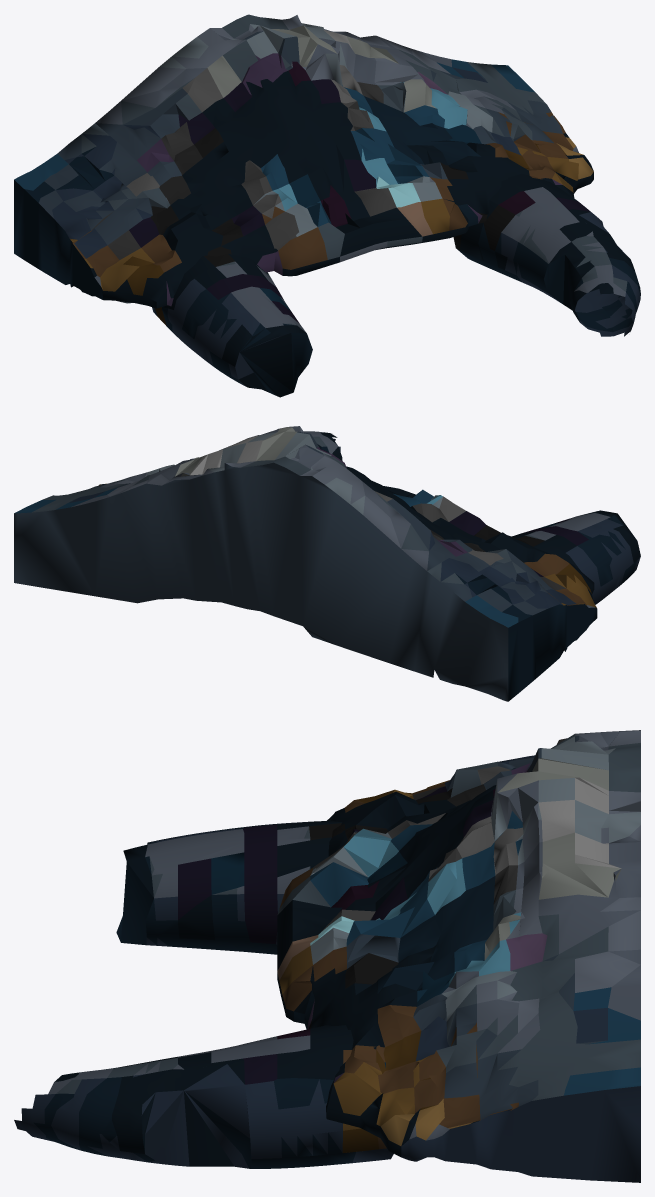
The model's file is coral_manta_head_damaged.glb.
3 views of the same model, one above another, from view 1: azimuth 30°, elevation 25°; view 2: azimuth 150°, elevation 25°; view 3: azimuth 270°, elevation 25° (orthographic). The views are drawn at different scales.
Parts seen in each view (by area): view 1: coral_manta_head_damaged_body, coral_manta_head_damaged_horn1, coral_manta_head_damaged_horn-1; view 2: coral_manta_head_damaged_body, coral_manta_head_damaged_horn-1, coral_manta_head_damaged_horn1; view 3: coral_manta_head_damaged_body, coral_manta_head_damaged_horn1, coral_manta_head_damaged_horn-1.
Part boxes in pixels (x1=…): coral_manta_head_damaged_body: x1=14, y1=14, x2=593, y2=308; coral_manta_head_damaged_horn1: x1=453, y1=168, x2=640, y2=336; coral_manta_head_damaged_horn-1: x1=152, y1=253, x2=312, y2=397; coral_manta_head_damaged_body: x1=14, y1=426, x2=597, y2=701; coral_manta_head_damaged_horn-1: x1=512, y1=510, x2=640, y2=604; coral_manta_head_damaged_horn1: x1=219, y1=431, x2=342, y2=460; coral_manta_head_damaged_body: x1=277, y1=730, x2=640, y2=1182; coral_manta_head_damaged_horn1: x1=14, y1=1025, x2=393, y2=1168; coral_manta_head_damaged_horn-1: x1=116, y1=820, x2=342, y2=954.
Size of the model in its own units: 24 by 9.96 by 18.96.
